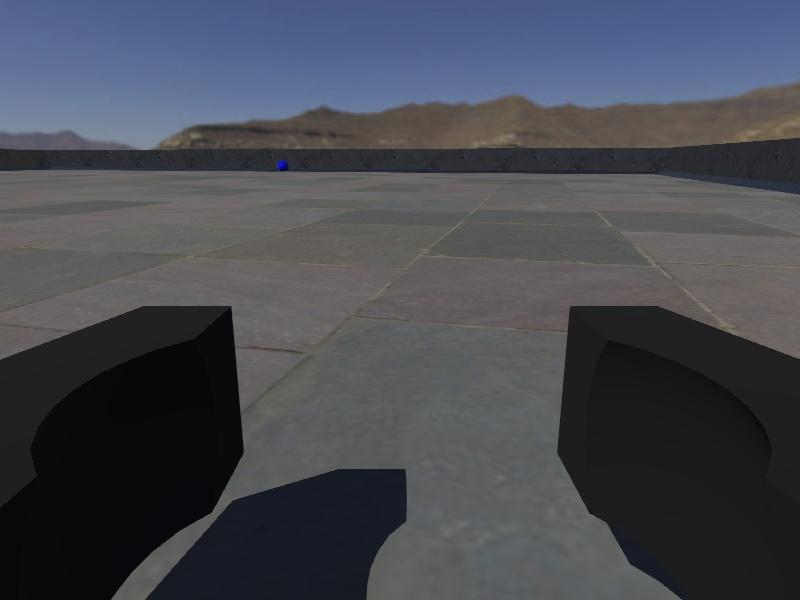blue ball: (277, 159, 289, 172)
